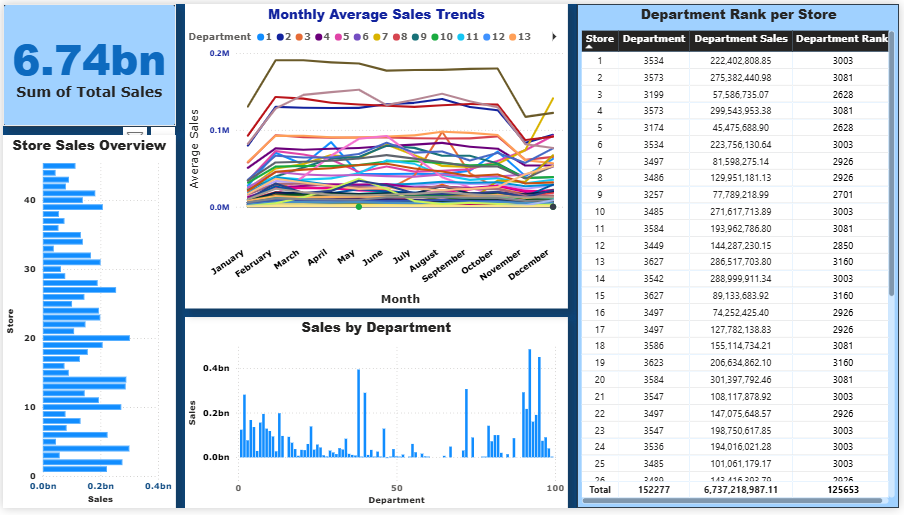

What the dashboard file says about the page in this screenshot:
{"tool":"powerbi","page":{"name":"Page 1","canvas":[1280,720],"ordinal":0},"visuals":[{"type":"card","fields":{"Values":["Sum(total_sales.Total_Sales)"]},"box":[0,0,246.7,175],"z":0},{"type":"clusteredBarChart","title":"Store Sales Overview","fields":{"Category":["store_sales.Store"],"Y":["Sum(store_sales.Store_Sales)"]},"box":[0,186.7,246.7,533.3],"z":1000},{"type":"clusteredColumnChart","title":"Sales by Department","fields":{"Category":["dept_sales.Dept"],"Y":["Sum(dept_sales.Dept_Sales)"]},"box":[260,446.7,546.7,273.3],"z":1001},{"type":"lineChart","title":"Monthly Average Sales Trends","fields":{"Category":["dept_monthly_avg_sales.Month.Variation.Date Hierarchy.Month"],"Y":["Sum(dept_monthly_avg_sales.Avg_Sales)"],"Series":["dept_monthly_avg_sales.Dept"]},"box":[260,0,546.7,435],"z":1002},{"type":"tableEx","title":"Department Rank per Store","fields":{"Values":["dept_rank_per_store.Store","Sum(dept_rank_per_store.Dept)","Sum(dept_rank_per_store.Dept_Sales)","Sum(dept_rank_per_store.Dept_Rank)"]},"box":[820,0,460,720],"z":1004}]}

Visuals, with their boxes in screenshot pixels (x1, y1, x2, y2), scaled from the page's 1280x720 canvas onto the 904x515 screenshot:
card - Sum(total_sales.Total_Sales): crop(0, 0, 174, 125)
"Store Sales Overview" clusteredBarChart: crop(0, 134, 174, 514)
"Sales by Department" clusteredColumnChart: crop(184, 320, 570, 514)
"Monthly Average Sales Trends" lineChart: crop(184, 0, 570, 311)
"Department Rank per Store" tableEx: crop(579, 0, 903, 514)
